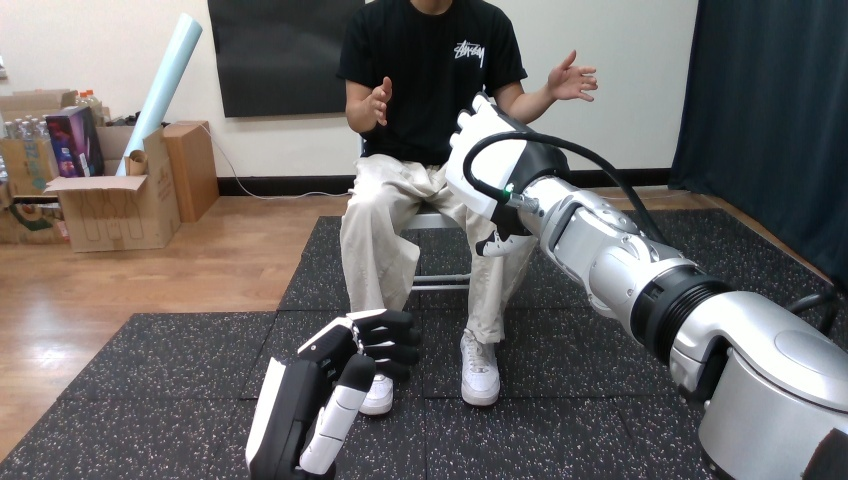left robot hand: (446, 95, 847, 478), (246, 309, 419, 479), (545, 50, 597, 103)
